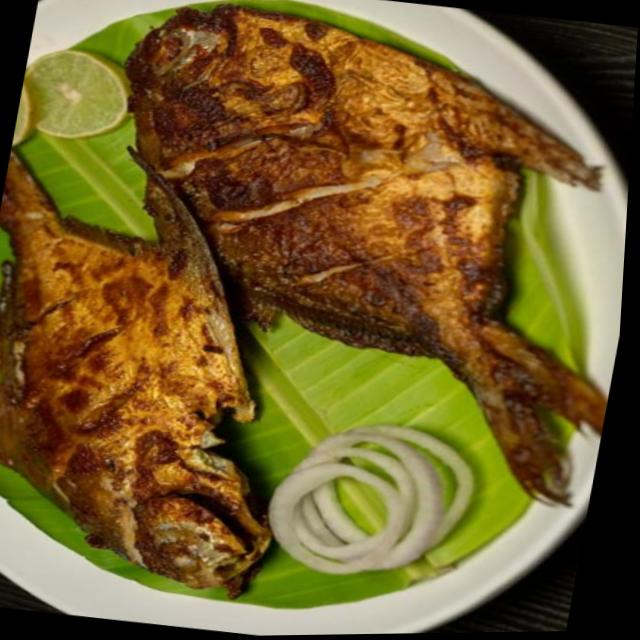FISH FRY: (0, 5, 605, 597)
